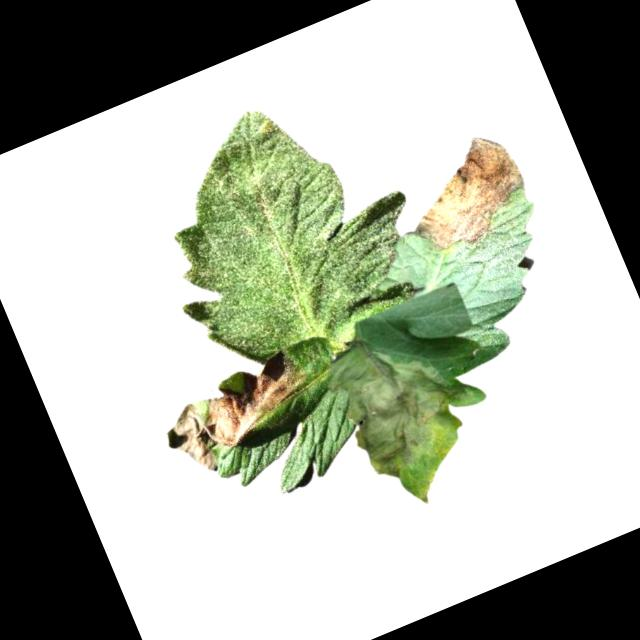Late_blight: (319, 312, 478, 486), (152, 350, 326, 483), (388, 124, 540, 266)
healthy: (119, 66, 450, 399)
